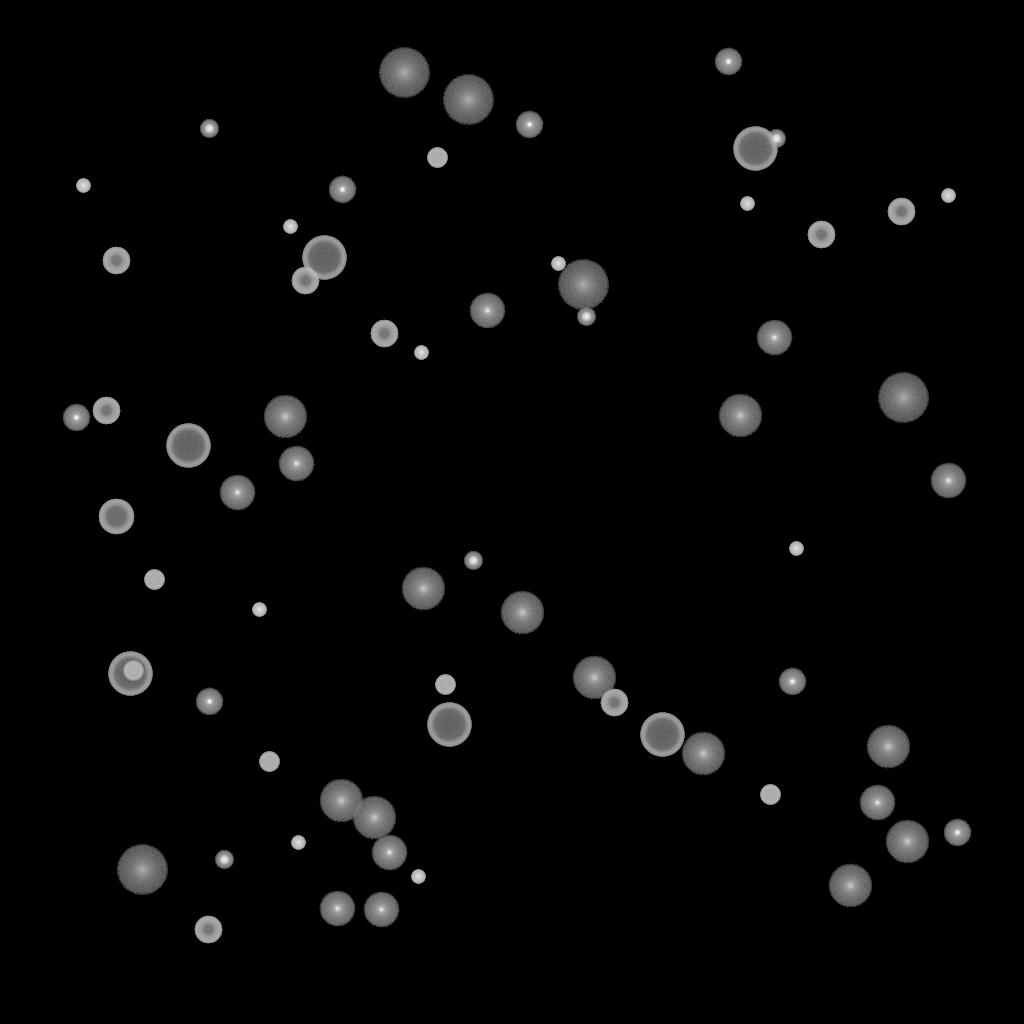depth:-10: (328, 176, 356, 204), (62, 404, 90, 432), (943, 819, 971, 847), (714, 48, 742, 76), (515, 111, 543, 139), (195, 688, 223, 716), (778, 668, 806, 696)
depth:-20: (464, 552, 482, 570), (200, 120, 218, 138), (577, 308, 595, 326), (767, 130, 785, 148), (215, 851, 233, 869)
depth:-30: (283, 220, 297, 234), (941, 189, 955, 203), (414, 346, 428, 360), (789, 542, 803, 556), (411, 870, 425, 884), (740, 197, 754, 211), (551, 257, 565, 271), (252, 603, 266, 617), (76, 179, 90, 193), (291, 836, 305, 850)
depth:-40: (427, 148, 447, 168), (435, 675, 455, 695), (760, 785, 780, 805), (123, 661, 143, 681), (259, 752, 279, 772), (144, 570, 164, 590)
depth:-50: (600, 689, 628, 717), (370, 320, 398, 348), (291, 267, 319, 295), (807, 221, 835, 249), (194, 916, 222, 944), (102, 247, 130, 275), (92, 397, 120, 425), (887, 198, 915, 226)
depth:-60: (98, 499, 134, 535)
depth:-70: (302, 236, 346, 280), (108, 652, 152, 696), (427, 703, 471, 747), (640, 713, 684, 757), (733, 127, 777, 171), (166, 424, 210, 468)
depth:0: (469, 293, 505, 329), (319, 891, 355, 927), (371, 835, 407, 871), (278, 446, 314, 482), (756, 320, 792, 356), (363, 892, 399, 928), (859, 785, 895, 821), (219, 475, 255, 511), (930, 463, 966, 499)
depth:10: (500, 591, 544, 635), (866, 725, 910, 769), (681, 732, 725, 776), (572, 656, 616, 700), (352, 796, 396, 840), (319, 779, 363, 823), (718, 394, 762, 438), (401, 567, 445, 611), (885, 820, 929, 864), (263, 395, 307, 439), (828, 864, 872, 908)
depth:20: (442, 75, 494, 125), (116, 845, 168, 895), (557, 260, 609, 310), (378, 48, 430, 98), (877, 373, 929, 423)
